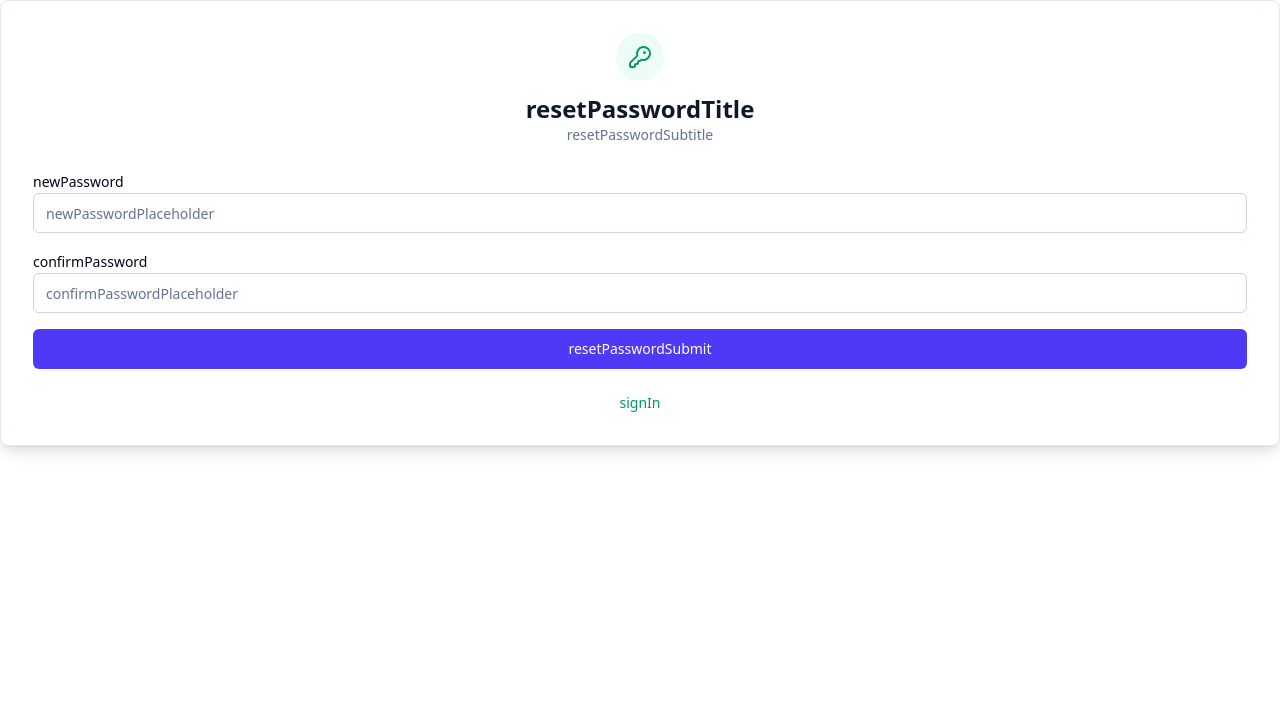
Test case: ResetPassword › shows error message if API fails with error
Type "ValidNewPassword2026!" into the password field labelled "newPassword" at (640, 213), box [33,193,1247,233]
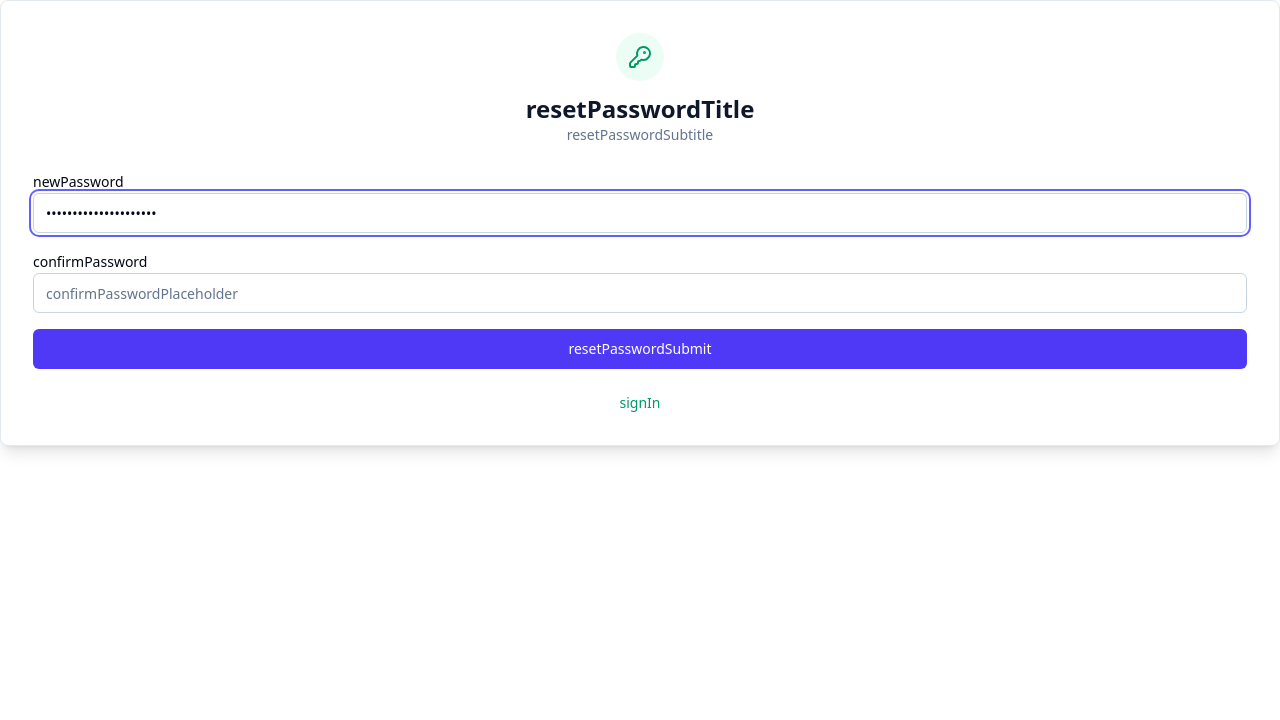
Type "ValidNewPassword2026!" into the password field labelled "confirmPassword" at (640, 293), box [33,273,1247,313]
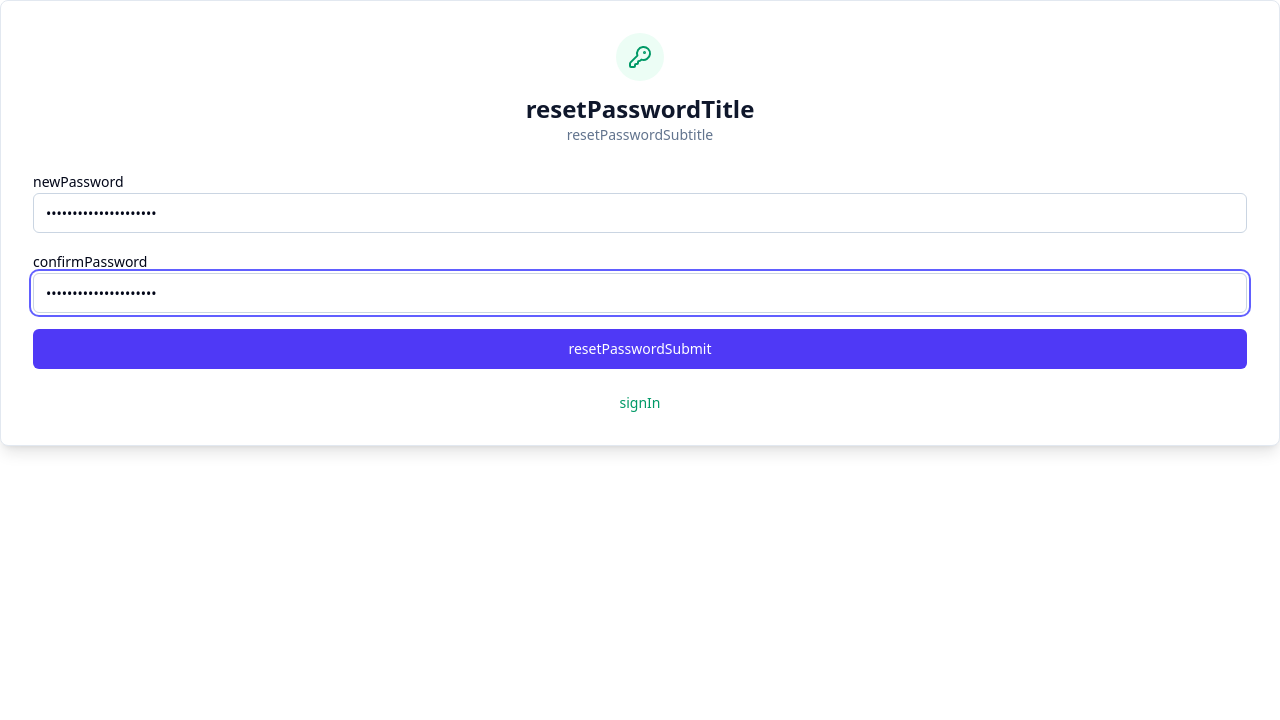
Click the button "resetPasswordSubmit" at (640, 349), box [33,329,1247,369]
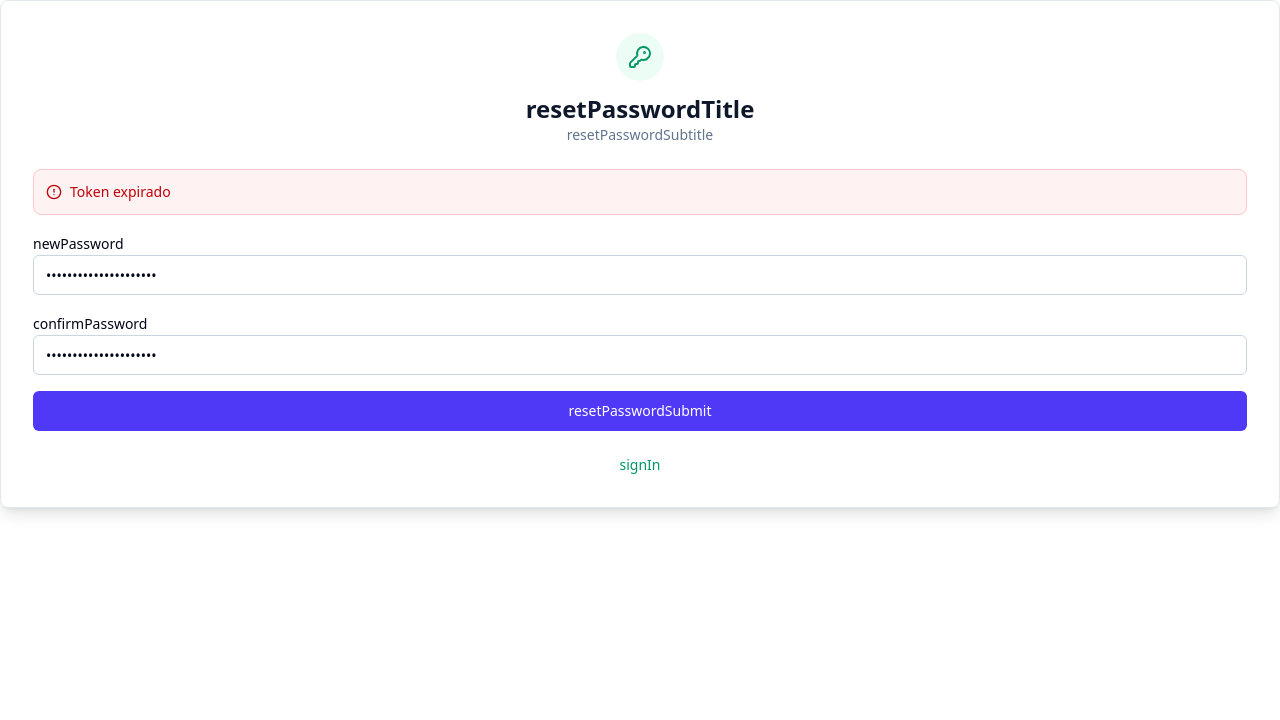
Result: the text "Token expirado" is shown at [70,182,171,202]
